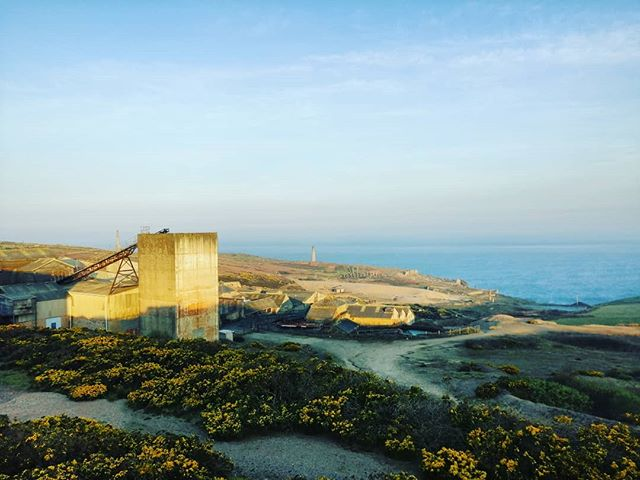building: (1, 222, 221, 327), (296, 302, 414, 337)
sea: (358, 244, 640, 301)
sky: (1, 1, 637, 240)
